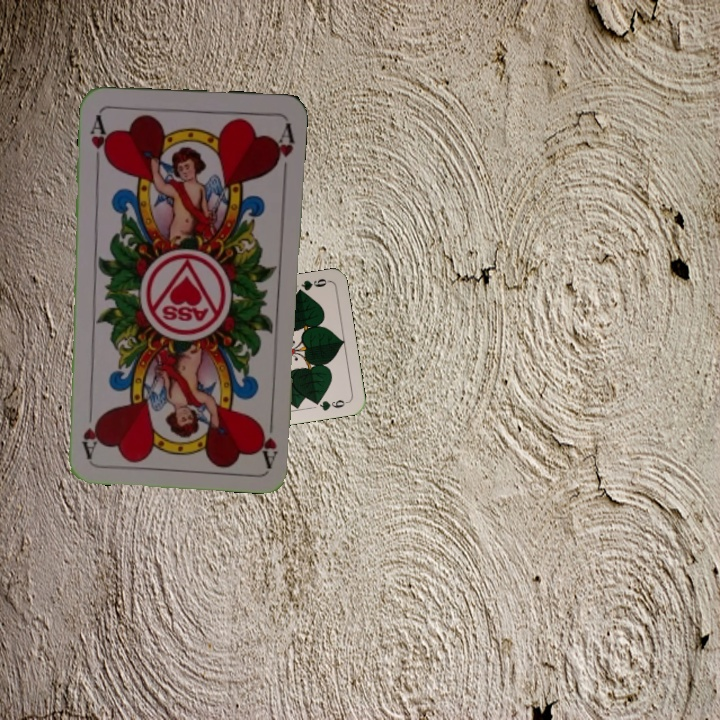G9: (291, 274, 331, 297)
HA: (254, 408, 281, 468), (86, 110, 112, 168)
